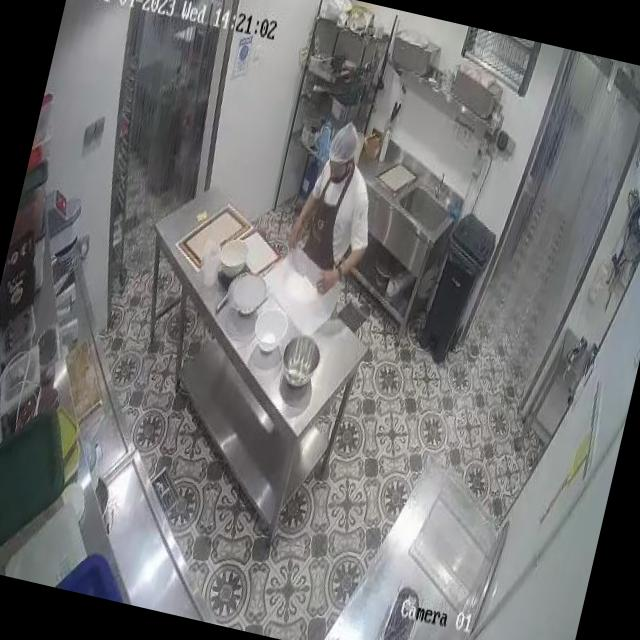hairnet: (326, 118, 362, 164)
